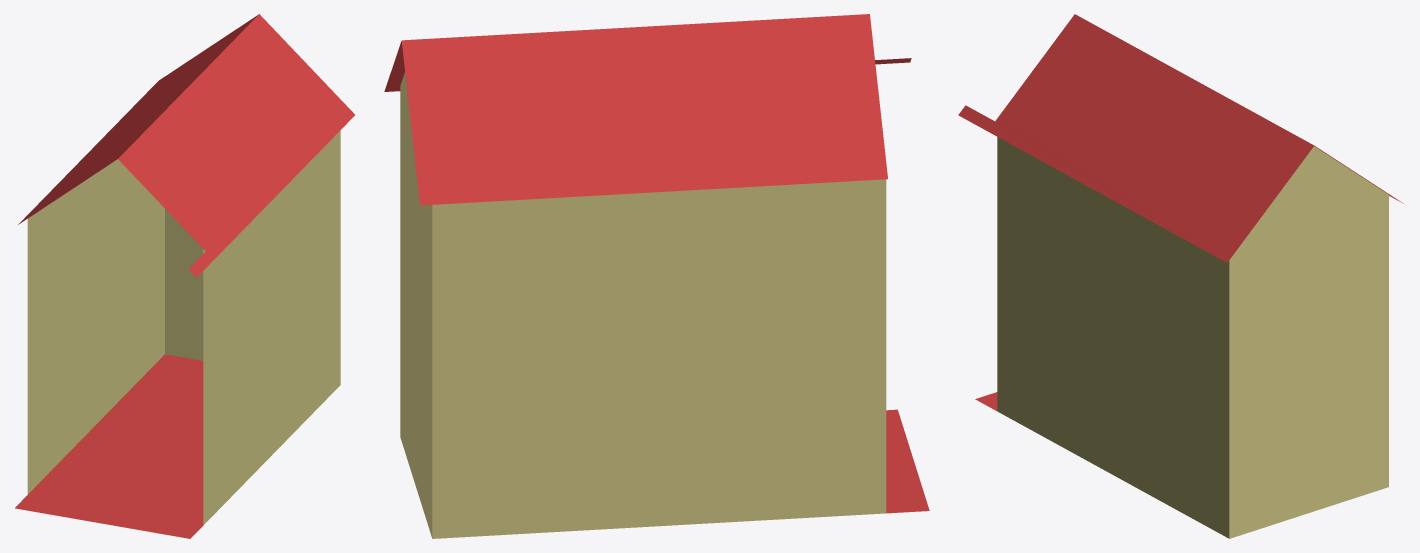
3 views of the same model, side by side, from view 1: azimuth 30°, elevation 25°; view 2: azimuth 150°, elevation 25°; view 3: azimuth 270°, elevation 25° (orthographic). The views are drawn at different scales.
Size of the model in its own units: 9.79 by 9.32 by 8.55.
